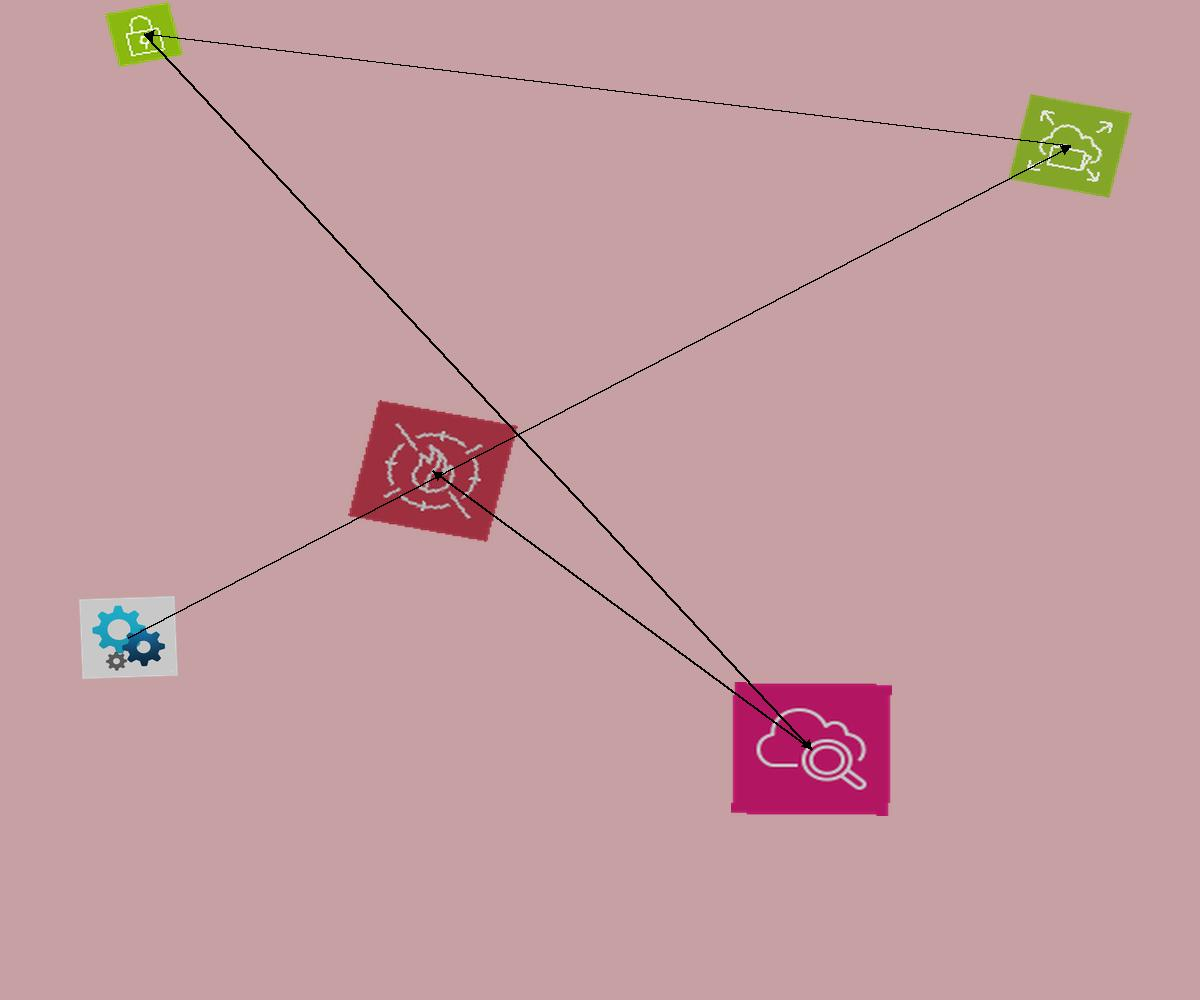AWS-CloudWatch: (731, 682, 892, 816)
AWS-EFS: (1008, 94, 1132, 198)
AWS-Public-subnet: (105, 2, 183, 67)
AWS-WAF: (348, 400, 518, 542)
Azure_api: (79, 596, 178, 679)
